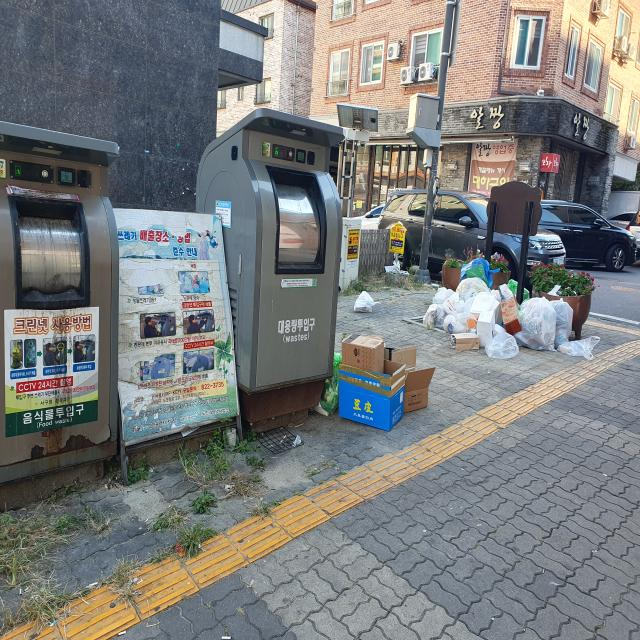CleanNet: (0, 121, 120, 495), (195, 106, 342, 402)
General Waste: (424, 260, 598, 362), (333, 334, 432, 434)
